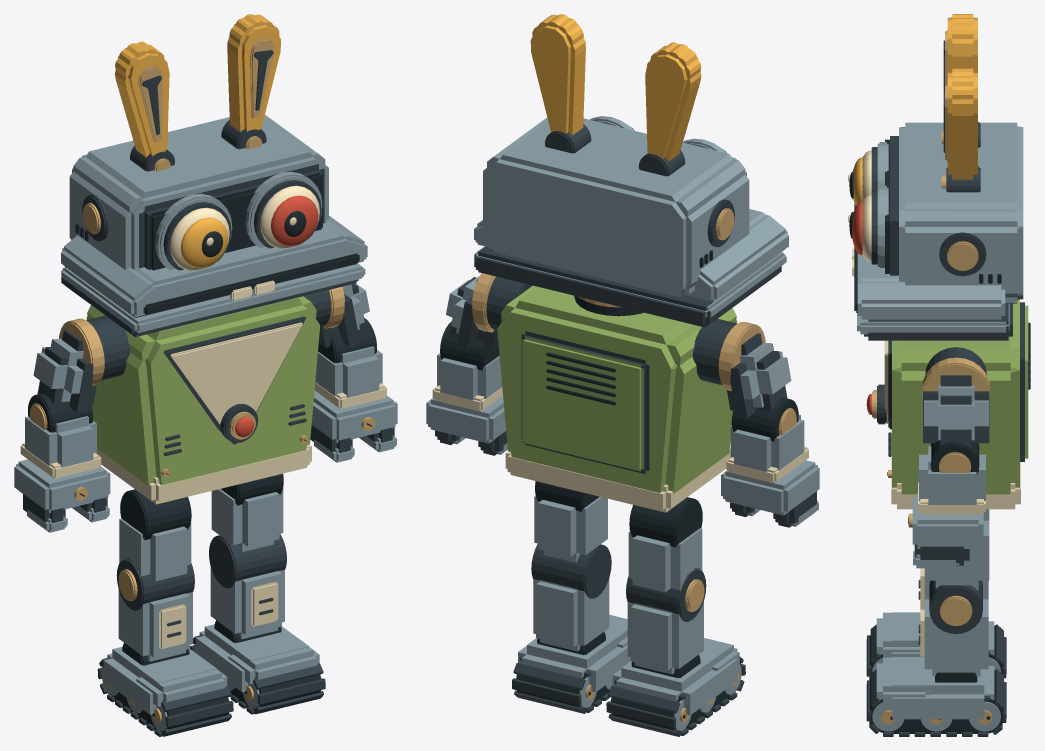
Rendered from robot.fbx.
3 views of the same model, side by side, from view 1: azimuth 30°, elevation 25°; view 2: azimuth 150°, elevation 25°; view 3: azimuth 270°, elevation 25° (orthographic). The views are drawn at different scales.
Parts seen in each view (by area): view 1: Head, Torso, Shin.L, UpperArm.R, Shin.R, Ear.L, Jaw, Ear.R, Thigh.R, Foot.R, Foot.L, Forearm.R (+13 smaller); view 2: Torso, Head, Jaw, Shin.L, UpperArm.R, Shin.R, Ear.L, Thigh.R, Ear.R, Forearm.R, Thigh.L, Foot.R (+11 smaller); view 3: Head, Torso, Foot.L, UpperArm.L, Shin.L, Forearm.L, Ear.L, Hand.L, Jaw, Foot.R, Ear.R, Thigh.L (+8 smaller).
Boxes of the visible parts, x1,y1,x2,y2 form: Head: (61,115,367,317); Torso: (86,296,320,504); Shin.L: (209,534,286,639); UpperArm.R: (33,315,129,412); Shin.R: (116,558,194,661); Ear.L: (221,14,280,149); Jaw: (61,263,365,336); Ear.R: (114,41,174,171); Thigh.R: (119,489,191,581); Foot.R: (103,643,227,714); Foot.L: (196,620,319,692); Forearm.R: (20,393,101,478); Torso: (497,285,737,512); Head: (474,116,788,301); Jaw: (474,246,786,327); Shin.L: (531,544,611,651); UpperArm.R: (692,318,791,418); Shin.R: (626,568,706,674); Ear.L: (530,14,591,153); Thigh.R: (628,497,702,592); Ear.R: (638,42,701,176); Forearm.R: (726,398,808,483); Thigh.L: (534,481,607,562); Foot.R: (612,638,739,715); Head: (852,122,1023,319); Torso: (866,299,1030,509); Foot.L: (876,657,994,719); UpperArm.L: (922,347,990,447); Shin.L: (918,580,988,676); Forearm.L: (918,440,985,514); Ear.L: (941,68,980,192); Hand.L: (908,492,983,568); Jaw: (857,303,1012,340); Foot.R: (876,612,994,657); Ear.R: (941,14,980,147); Thigh.L: (925,520,989,590).
Bounding box in the file's own units: 1.1 × 1.96 × 0.4955.
